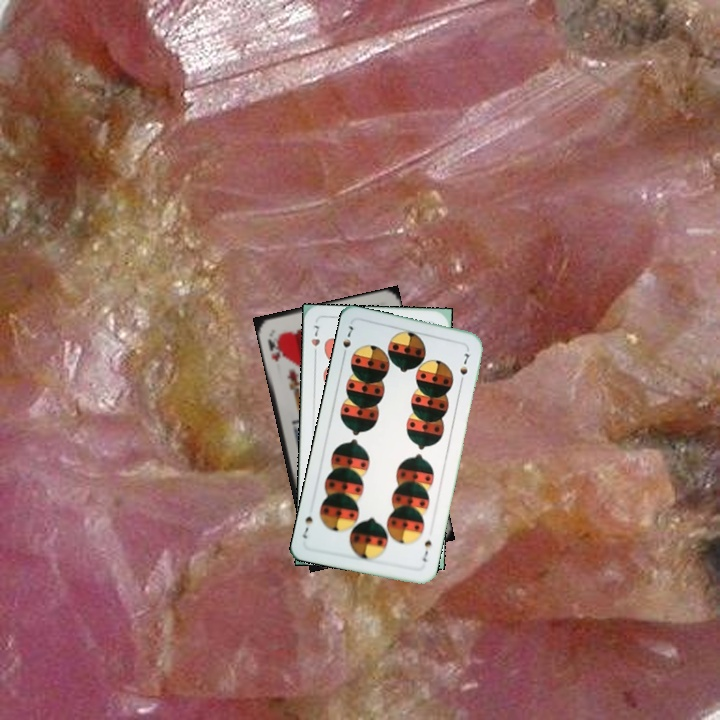H7: (307, 321, 322, 360)
HK: (263, 330, 285, 364)
S7: (339, 322, 356, 360), (419, 536, 434, 564)
